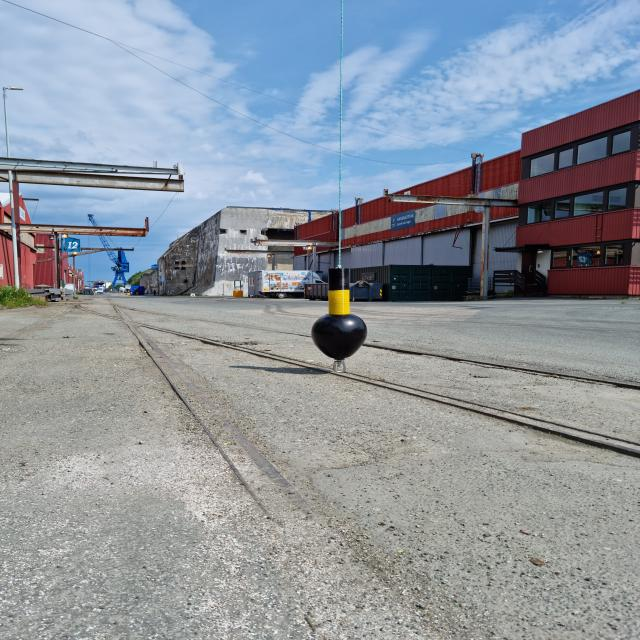east: (312, 269, 367, 359)
